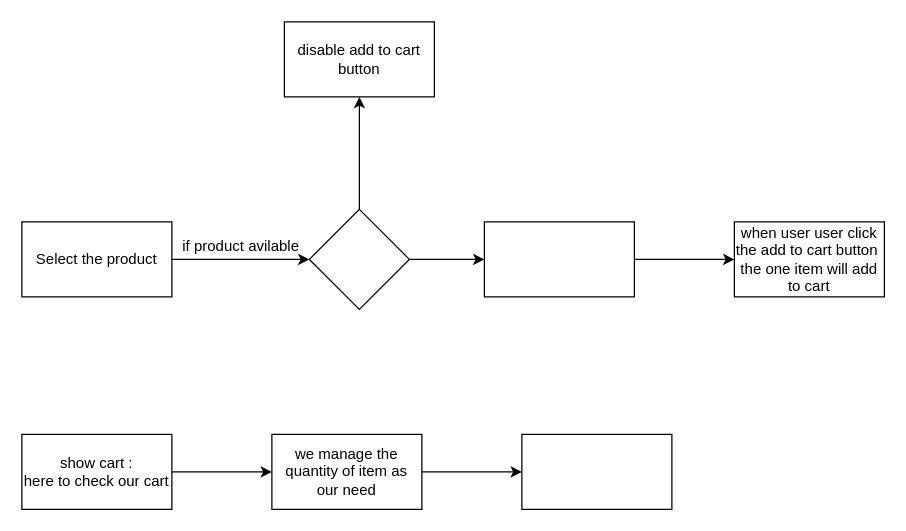
The diagram is 906 pixels wide and 531 high, and some of its shapes have lost their labels. Each missing label, with the centre of its shape:
"display add to cart option" goes at (558,259).
"here we can remove the item from the cart" goes at (596,471).
